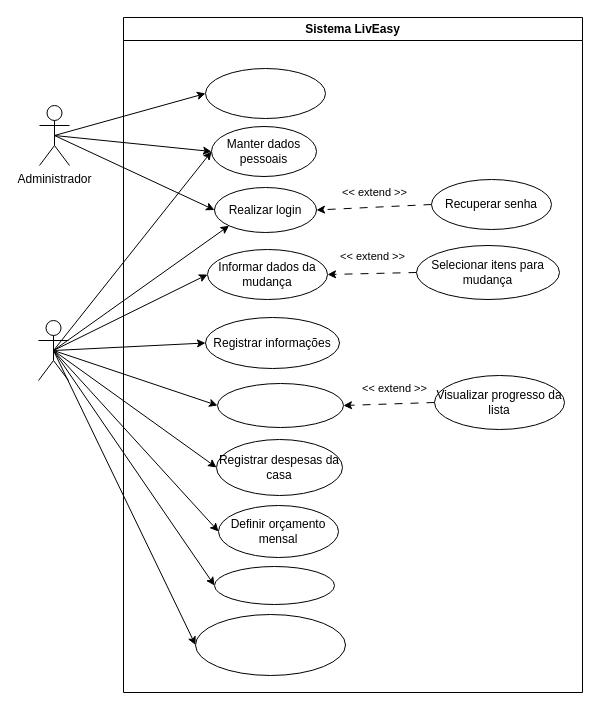
Some shapes in this 600 by 710 pixel diagram are drawn without their labels. The shapes that lost their labels are listed below. From the top down, each one's centre as x and y in pixels, then its label:
At (265,93): "Controlar acesso".
At (53,350): "Cliente".
At (280,405): "Criar lista de tarefa".
At (274,585): "Visualizar gastos".
At (270,645): "Definir configuração do sistema".
